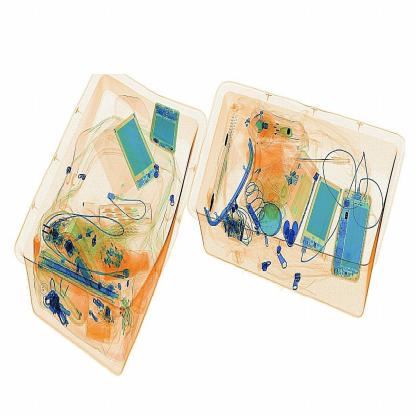pliers: (286, 148, 352, 174)
